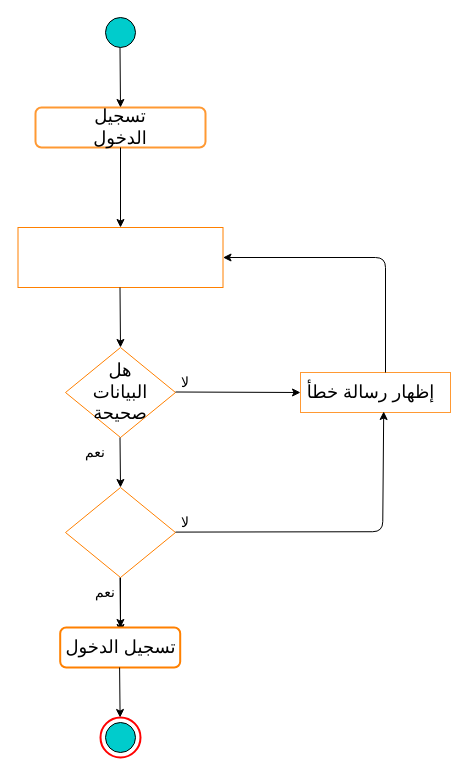
This 468x776 diagram has some shape labels left out. The centre of each missing label's shape, as x and y in pixels:
"إدخال البريد الإلكتروني وكلمة المرور" belongs at point (120, 257).
"هل الحساب موجود" belongs at point (120, 532).
